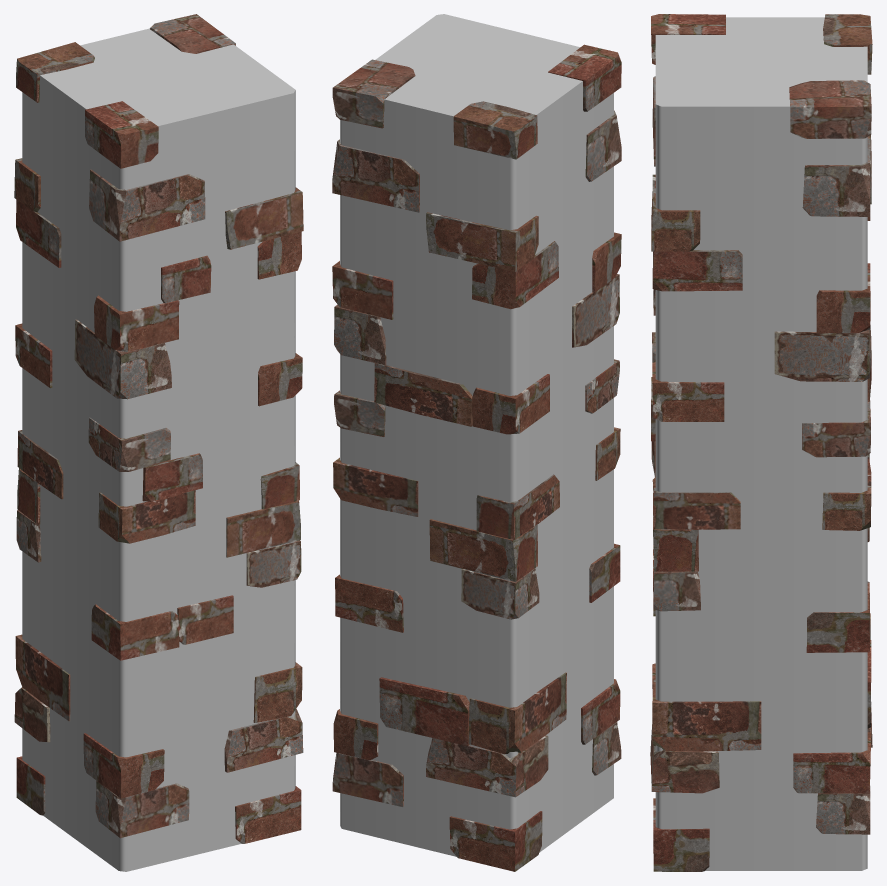
File: SM_Brick_Column_01.fbx
3 renders of one model, left to right at view 1: azimuth 30°, elevation 25°; view 2: azimuth 150°, elevation 25°; view 3: azimuth 270°, elevation 25°, orthographic. The views are drawn at different scales.
Parts seen in each view (by area): view 1: SM_Brick_Column_01_LOD0; view 2: SM_Brick_Column_01_LOD0; view 3: SM_Brick_Column_01_LOD0.
Part boxes in pixels (x1=…): SM_Brick_Column_01_LOD0: x1=14, y1=14, x2=303, y2=871; SM_Brick_Column_01_LOD0: x1=332, y1=14, x2=621, y2=871; SM_Brick_Column_01_LOD0: x1=650, y1=14, x2=872, y2=871.
Size of what is drawn, in the model's own units: 156 by 603 by 158.
